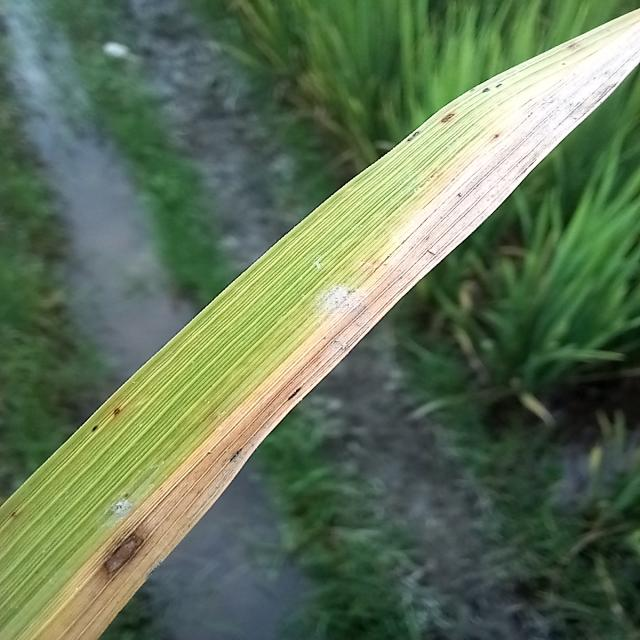Leaf_Blast: (22, 120, 548, 640)
